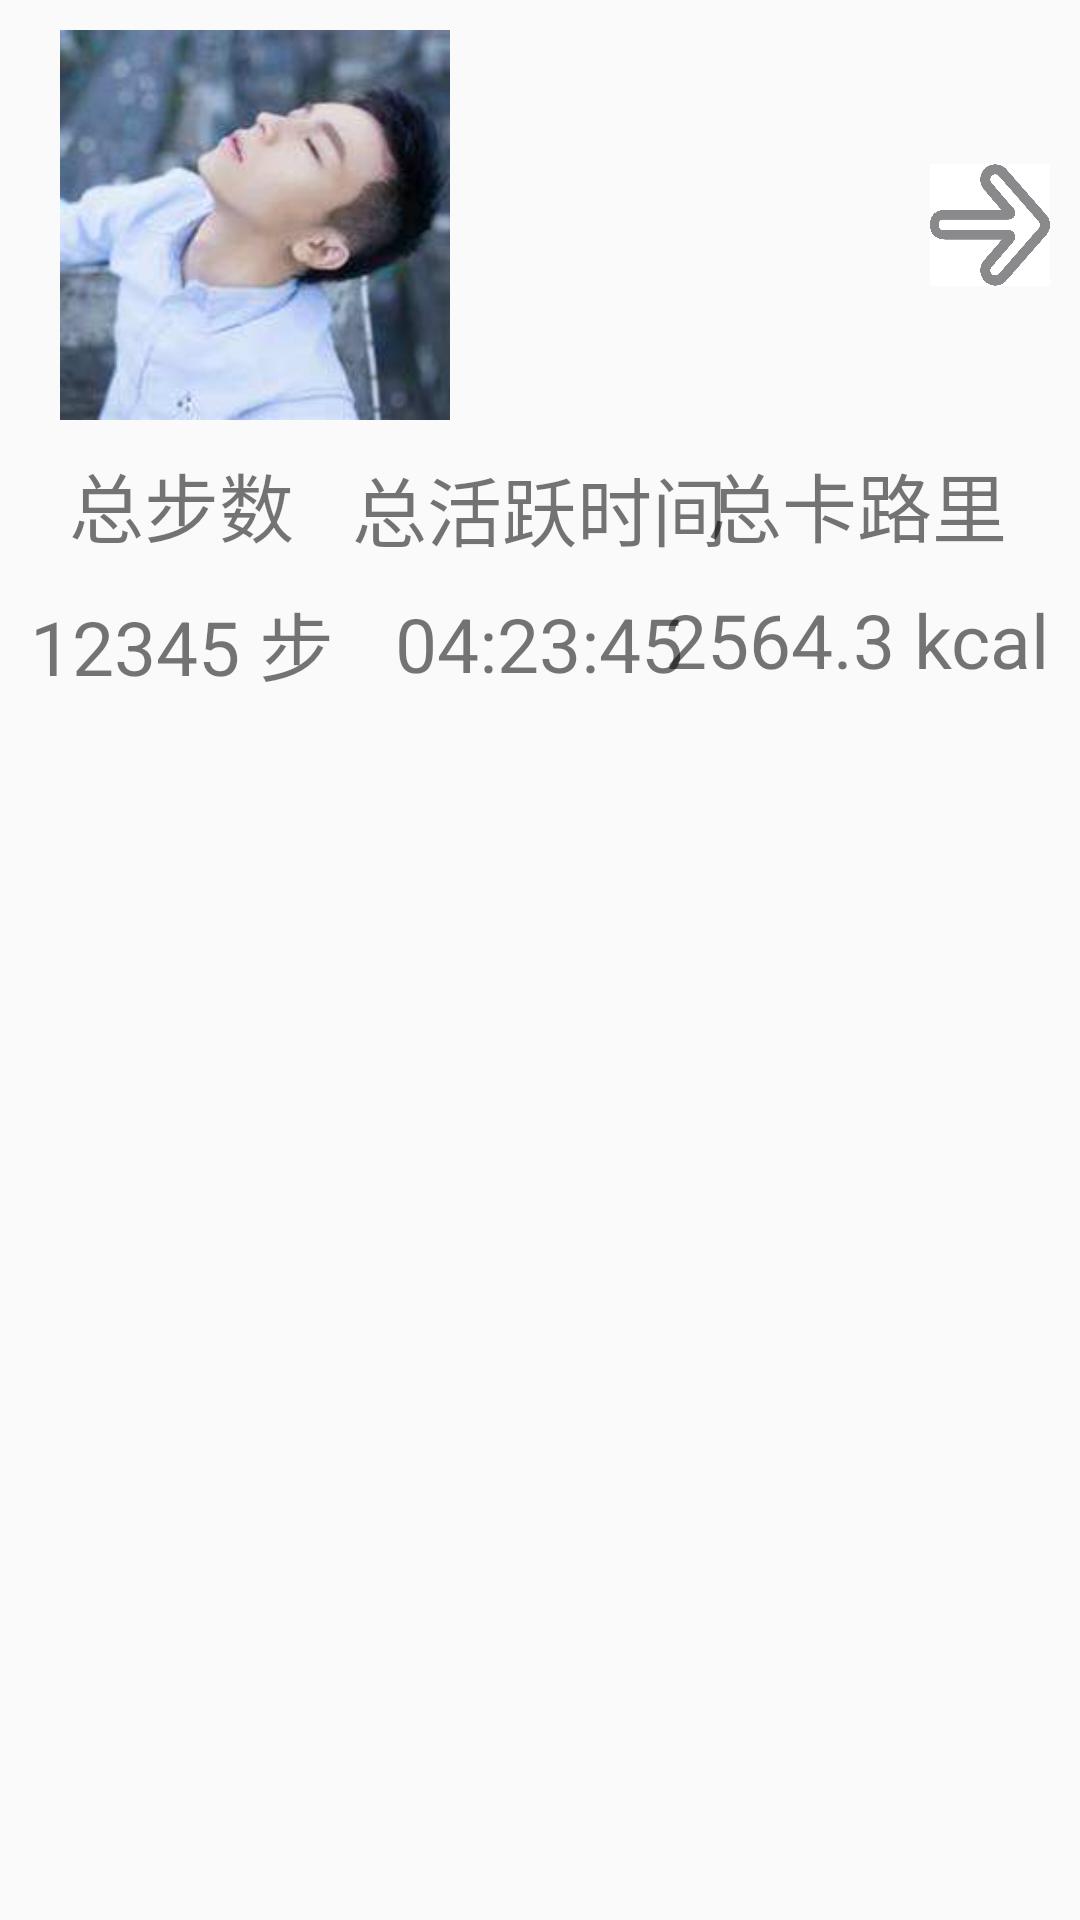

Screen size 1080 × 1920. Icon name, then its box in pixels as region(x1, y1, x2, y2):
more: region(930, 164, 1050, 286)
